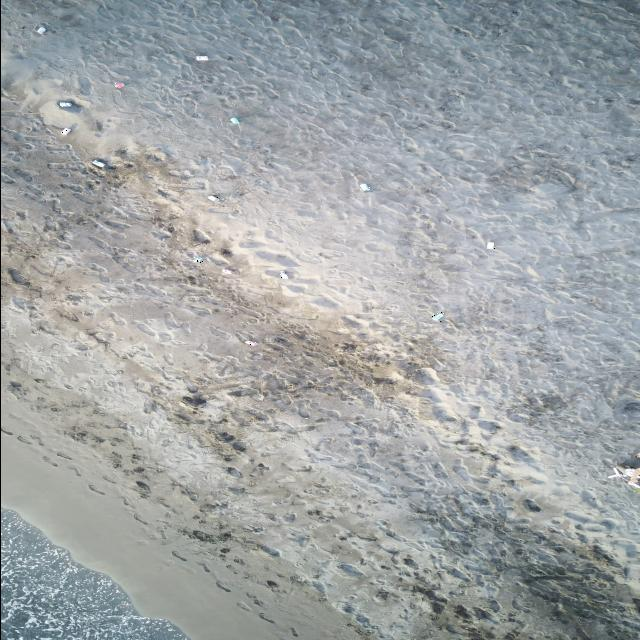Garbage: (607, 460, 639, 487), (181, 392, 206, 407), (8, 267, 27, 286), (337, 563, 363, 575), (192, 228, 209, 243), (57, 100, 80, 110), (607, 467, 622, 477), (57, 100, 72, 108), (91, 159, 104, 167), (35, 24, 45, 33), (60, 127, 71, 135), (208, 193, 220, 200), (433, 312, 443, 320), (221, 247, 231, 255), (243, 340, 256, 346), (228, 116, 239, 123), (360, 183, 371, 190), (193, 256, 203, 263), (221, 267, 232, 273), (279, 271, 287, 279), (115, 80, 123, 88), (196, 55, 207, 60), (487, 240, 492, 248), (635, 452, 639, 459)
